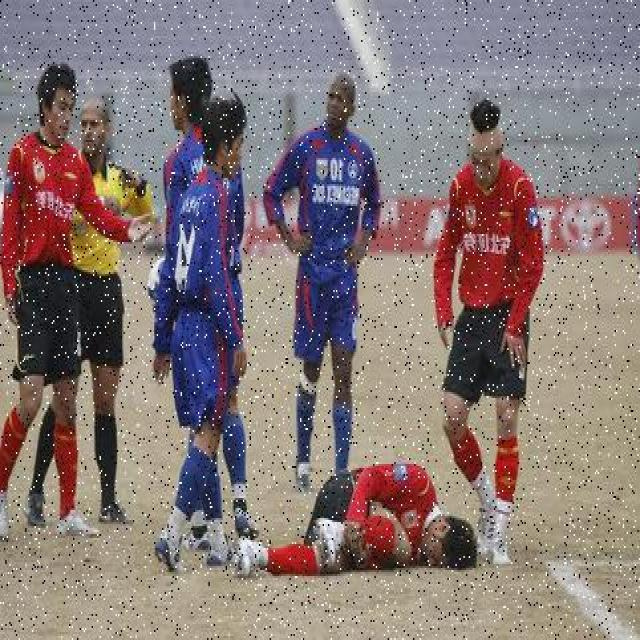fall: (238, 462, 475, 582)
